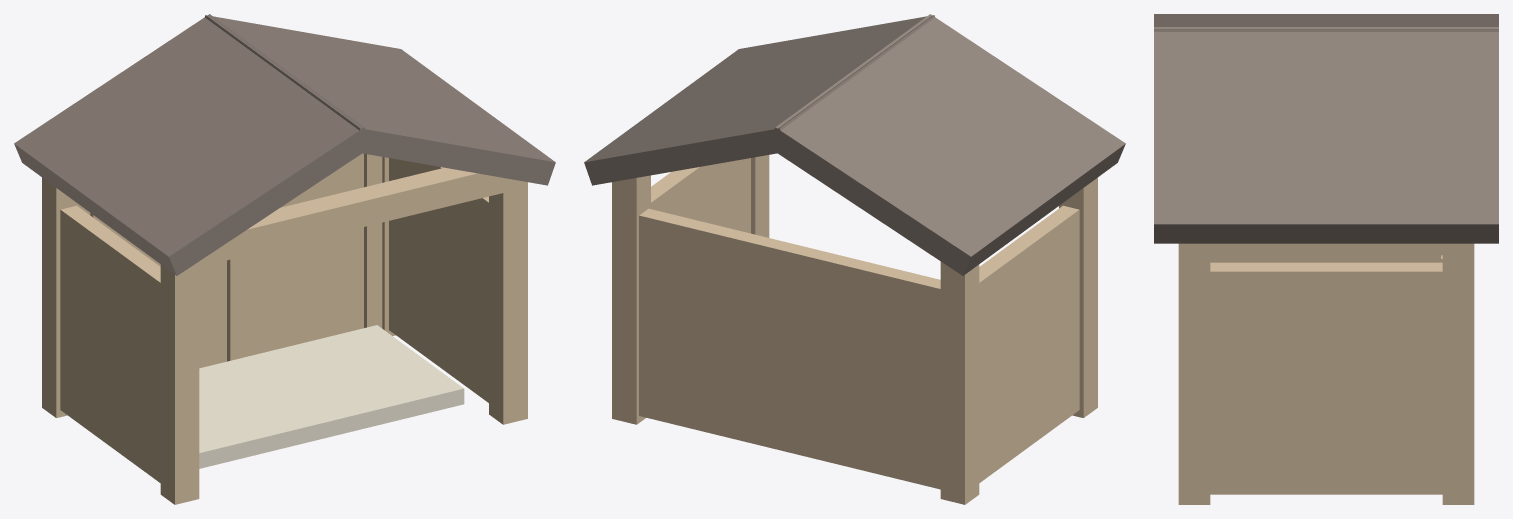
The model's file is shelter-wooden.glb.
The picture shows the model from 3 angles, left to right: view 1: azimuth 30°, elevation 25°; view 2: azimuth 150°, elevation 25°; view 3: azimuth 270°, elevation 25°; orthographic projection. The views are drawn at different scales.
Visible parts, largest first — view 1: Roof.004, Straw bed.002, Roof.005, Side wall.004, Back wall.002, Side wall.005, Front lintel.002, Post.008, Post.010, Post.009, Wall batten.008, Wall batten.007 (+1 smaller); view 2: Back wall.002, Roof.004, Roof.005, Side wall.004, Post.009, Post.011, Side wall.005, Post.008, Post.010; view 3: Roof.005, Side wall.005, Post.010, Post.011, Roof.004, Side wall.004.
Boxes of the visible parts, bbox=[...] form: Roof.004: bbox=[14, 14, 372, 275]; Straw bed.002: bbox=[199, 325, 464, 468]; Roof.005: bbox=[205, 15, 555, 185]; Side wall.004: bbox=[60, 205, 160, 482]; Back wall.002: bbox=[81, 153, 382, 368]; Side wall.005: bbox=[389, 158, 488, 402]; Front lintel.002: bbox=[186, 167, 523, 270]; Post.008: bbox=[160, 264, 199, 504]; Post.010: bbox=[489, 181, 527, 424]; Post.009: bbox=[42, 177, 80, 417]; Wall batten.008: bbox=[364, 153, 373, 327]; Wall batten.007: bbox=[227, 258, 236, 361]; Back wall.002: bbox=[639, 208, 940, 489]; Roof.004: bbox=[767, 14, 1125, 275]; Roof.005: bbox=[584, 15, 934, 185]; Side wall.004: bbox=[979, 205, 1079, 482]; Post.009: bbox=[940, 261, 979, 504]; Post.011: bbox=[612, 175, 650, 424]; Side wall.005: bbox=[651, 158, 750, 233]; Post.008: bbox=[1059, 177, 1097, 417]; Post.010: bbox=[751, 155, 769, 237]; Roof.005: bbox=[1154, 27, 1498, 243]; Side wall.005: bbox=[1210, 262, 1442, 494]; Post.010: bbox=[1178, 243, 1210, 504]; Post.011: bbox=[1442, 243, 1474, 504]; Roof.004: bbox=[1154, 14, 1498, 31]; Side wall.004: bbox=[1210, 243, 1440, 262].
Bounding box in the file's own units: 2.83 × 2.39 × 1.96.
